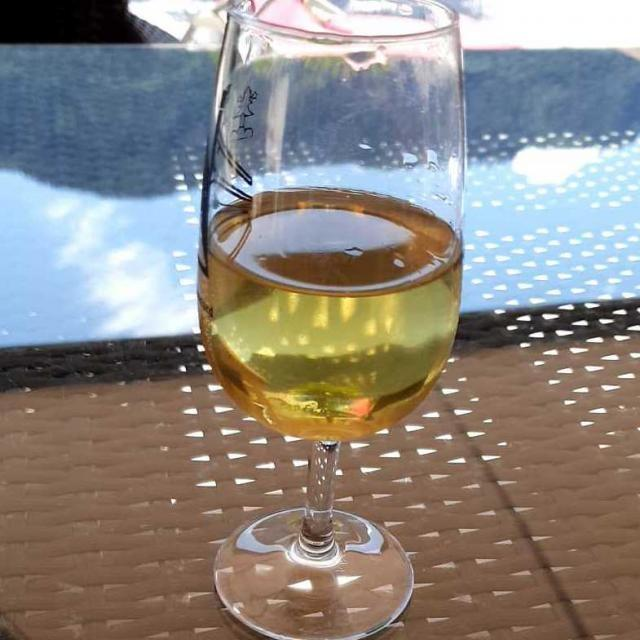wine: (206, 184, 457, 453)
